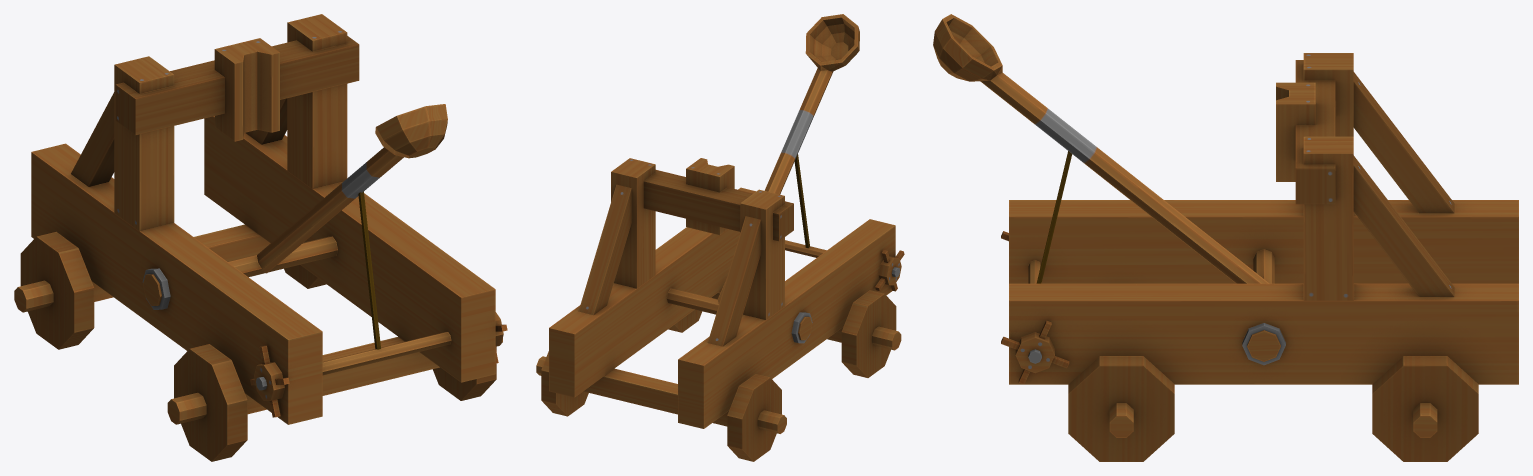
The model's file is Catapult.obj.
3 views of the same model, side by side, from view 1: azimuth 30°, elevation 25°; view 2: azimuth 150°, elevation 25°; view 3: azimuth 270°, elevation 25° (orthographic). The views are drawn at different scales.
Visible parts, largest first — view 1: Object.1, Object.2, Object.3; view 2: Object.1, Object.3, Object.2; view 3: Object.1, Object.2, Object.3.
Boxes of the visible parts, x1,y1,x2,y2 form: Object.1: (31,14,507,424); Object.2: (167,337,502,461); Object.3: (14,224,326,349); Object.1: (549,14,904,428); Object.3: (536,351,786,461); Object.2: (668,290,901,377); Object.1: (933,14,1518,384); Object.2: (1068,356,1174,461); Object.3: (1372,356,1478,461).
Bounding box in the file's own units: 93.48 × 105 × 148.
Materials: 1 (1 with a texture image).
